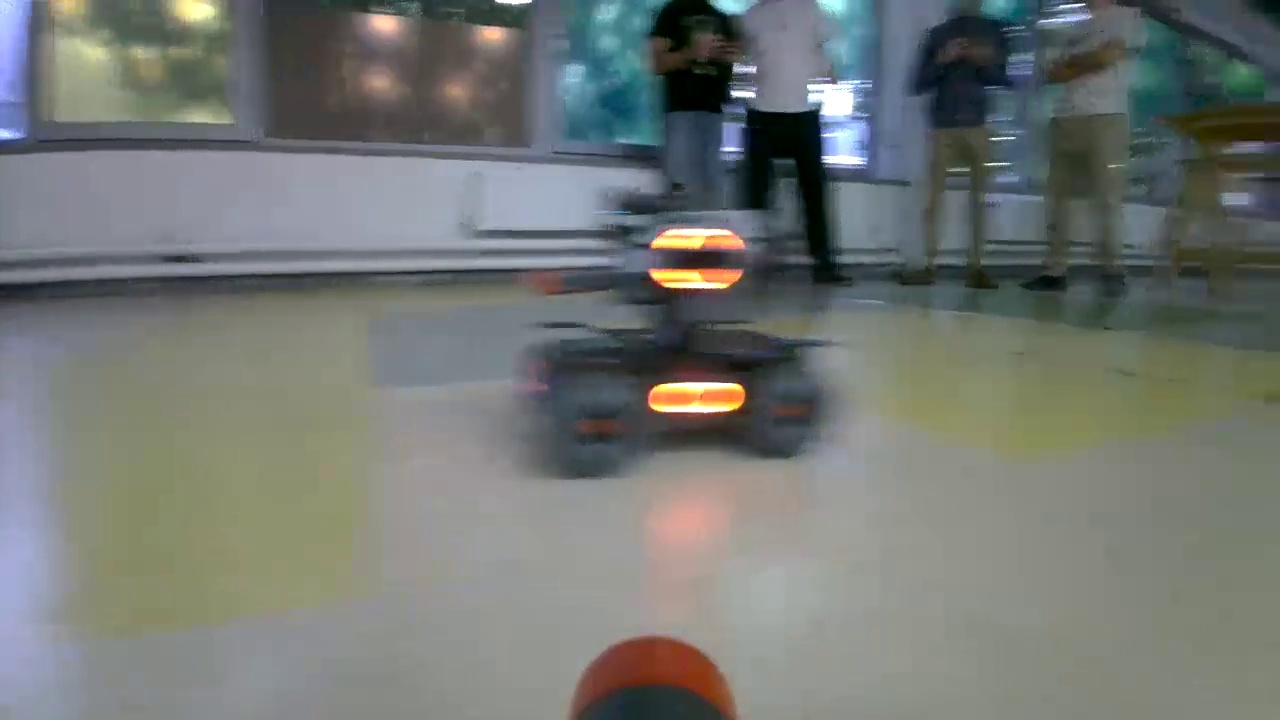robot: (535, 212, 834, 477)
